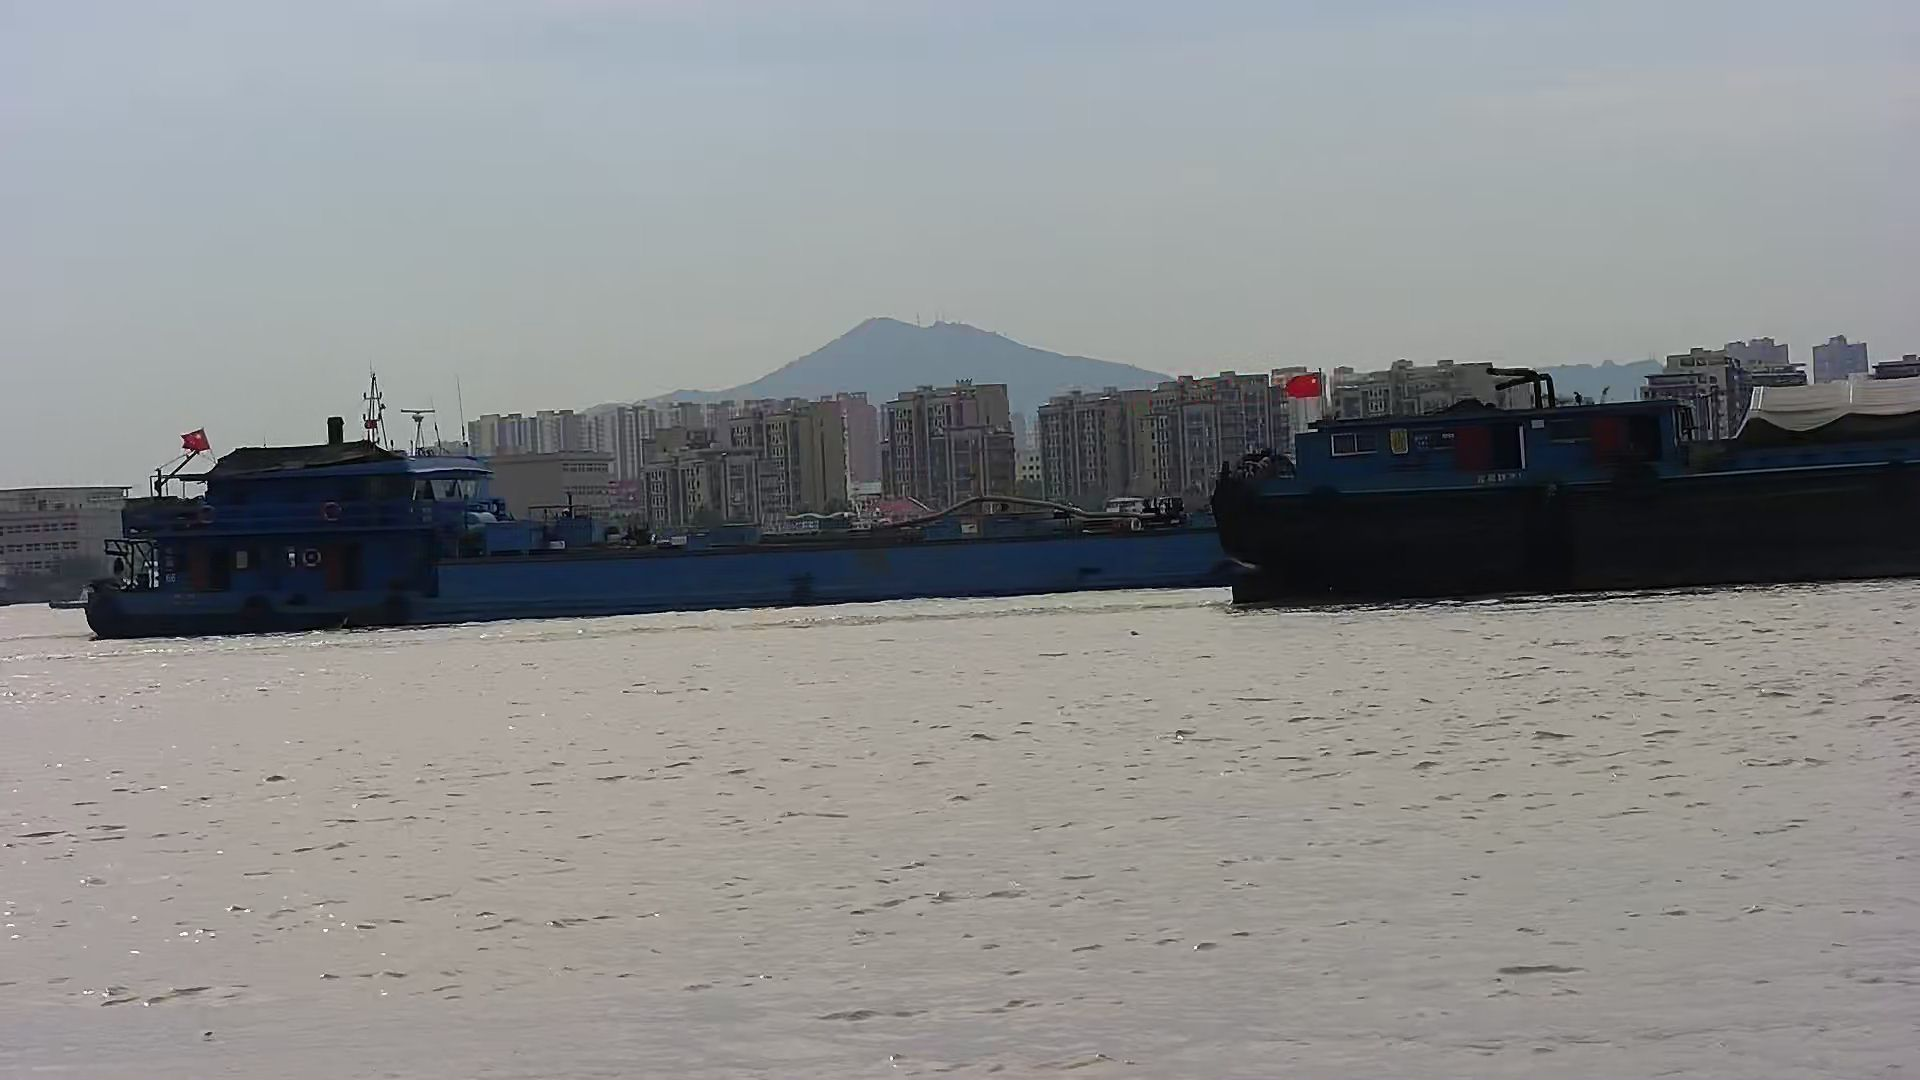ship: (83, 417, 1207, 640), (1216, 369, 1920, 611)
